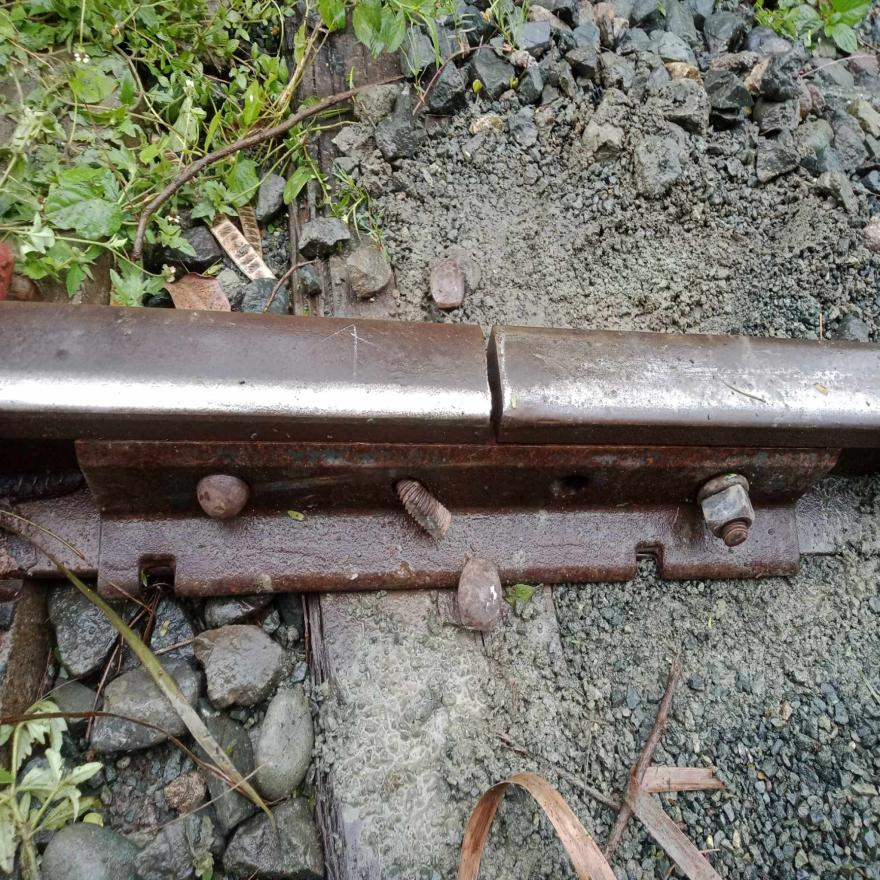railway-gap: (417, 289, 568, 478)
